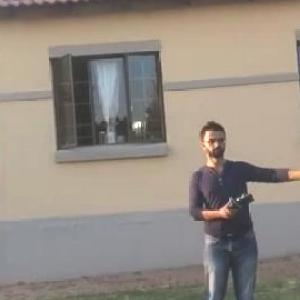follow: (186, 113, 300, 299)
